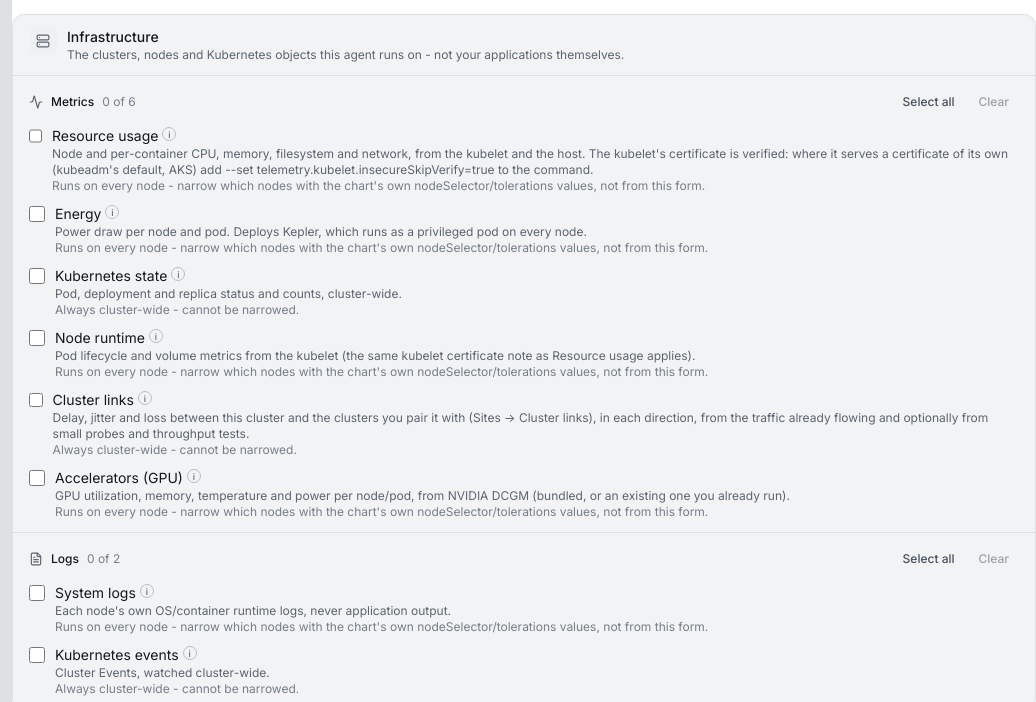
Test: CollectStep: Cluster links › offers probing and throughput only once the signal is on; the Secret is optional and tucked away
Click the checkbox with test id "t-clusterLinks": [36, 400] box [29, 392, 43, 408]
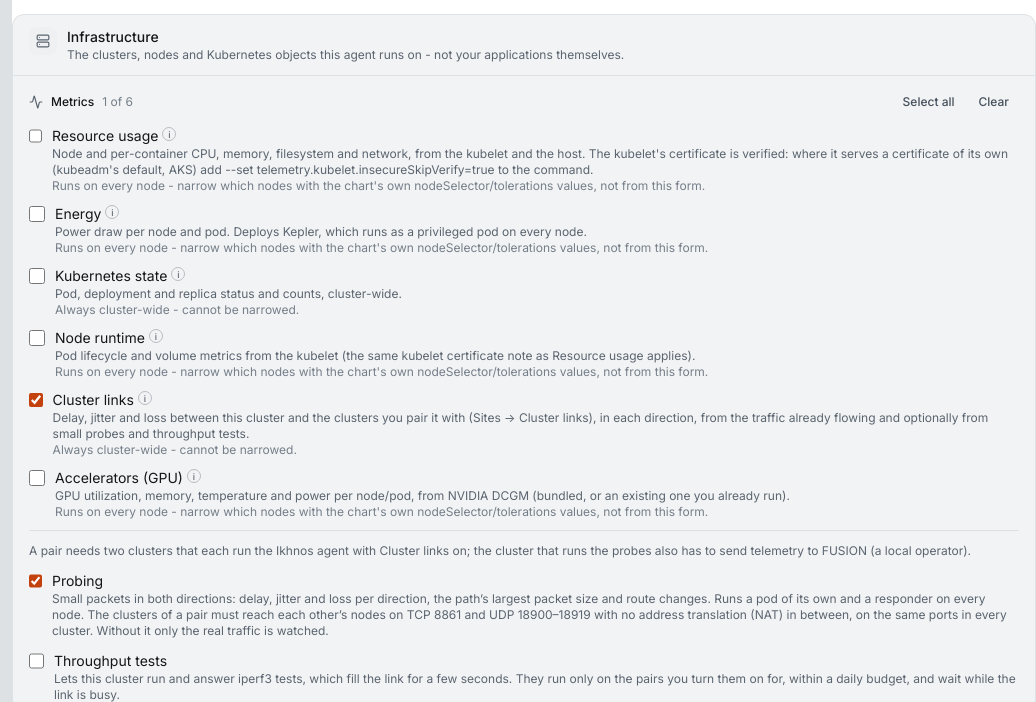
Expected: the checkbox with test id "t-links-probe" is checked, [29, 573, 42, 589]
Expected: the label with test id "t-links-probe" shows "TCP 8861 and UDP 18900–18919 with no address translation (NAT)", [52, 591, 1007, 638]
Click the checkbox with test id "t-links-throughput": [36, 661] box [29, 653, 44, 669]
(page scrolled)
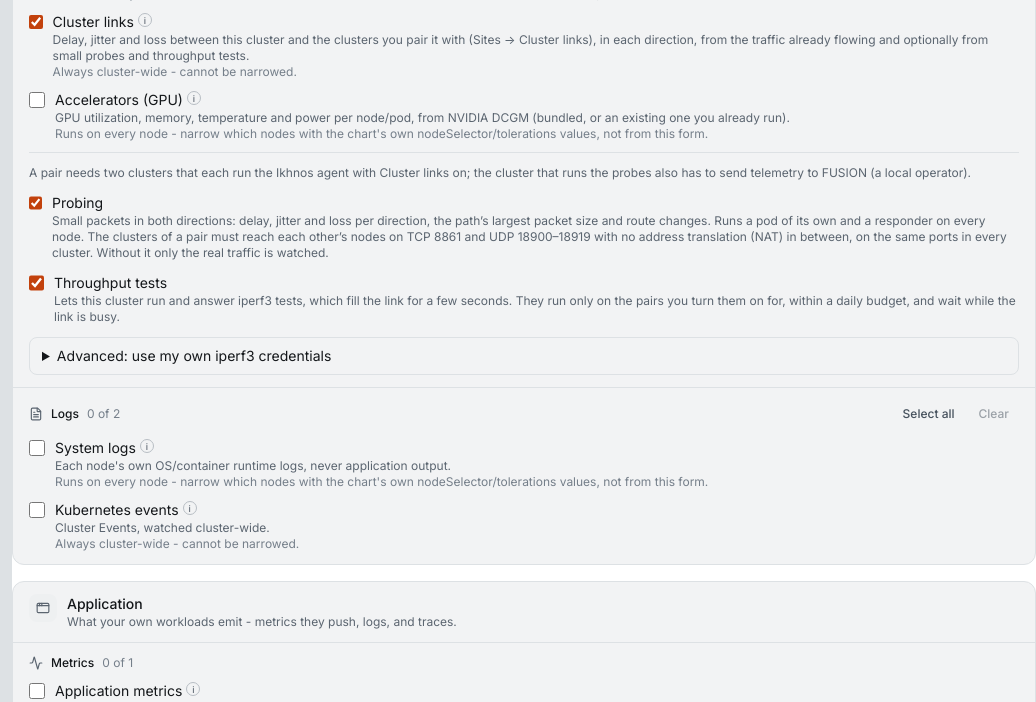
Expected: the element with test id "t-links-own-credentials" reads "Advanced: use my own iperf3 credentials", [57, 347, 331, 364]
Replace the text in the field with test id "t-links-secret" with "Bad_Name": [524, 356] box [29, 337, 1019, 375]
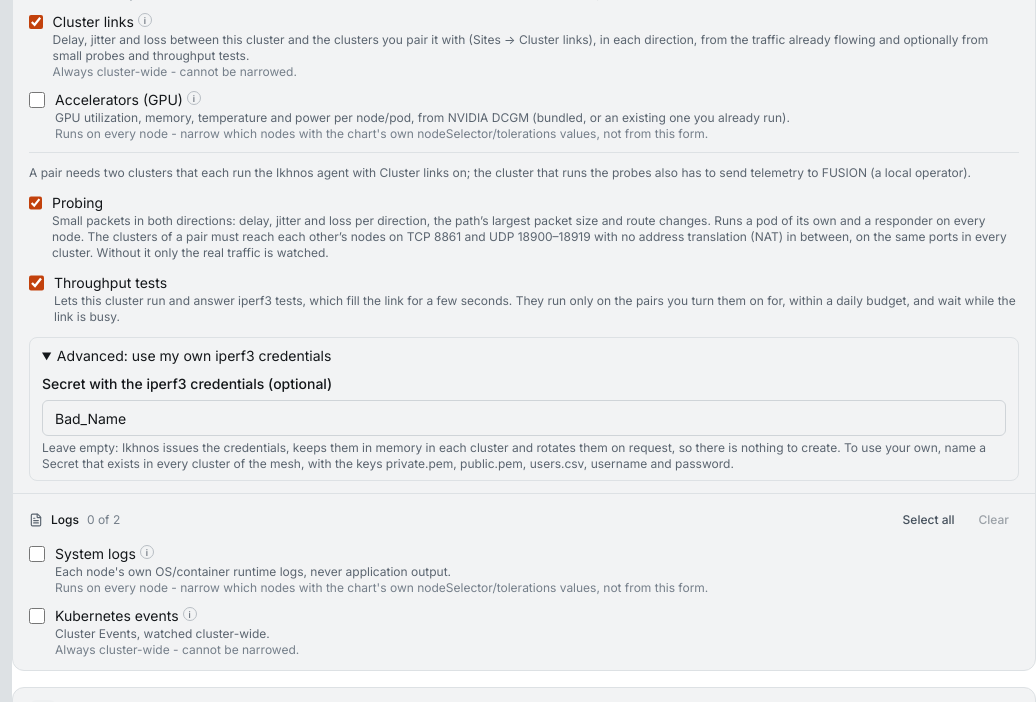
Replace the text in the field with test id "t-links-secret" with "ikhnos-link-iperf": [524, 418] box [42, 400, 1006, 436]
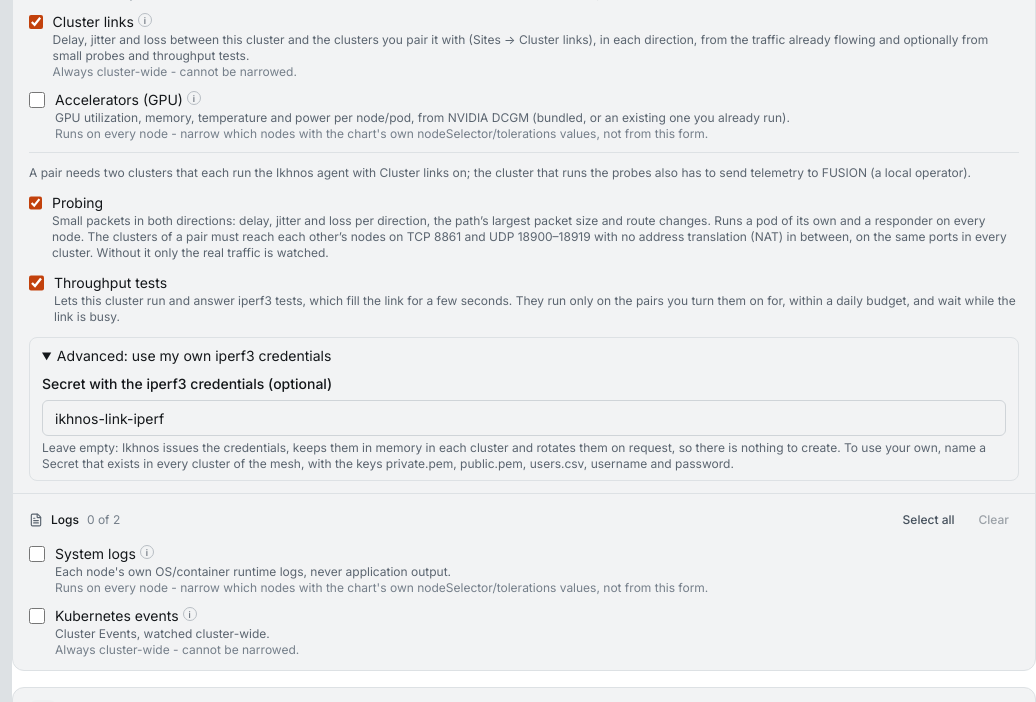
Click the checkbox with test id "t-links-probe": [36, 203] box [29, 195, 42, 211]
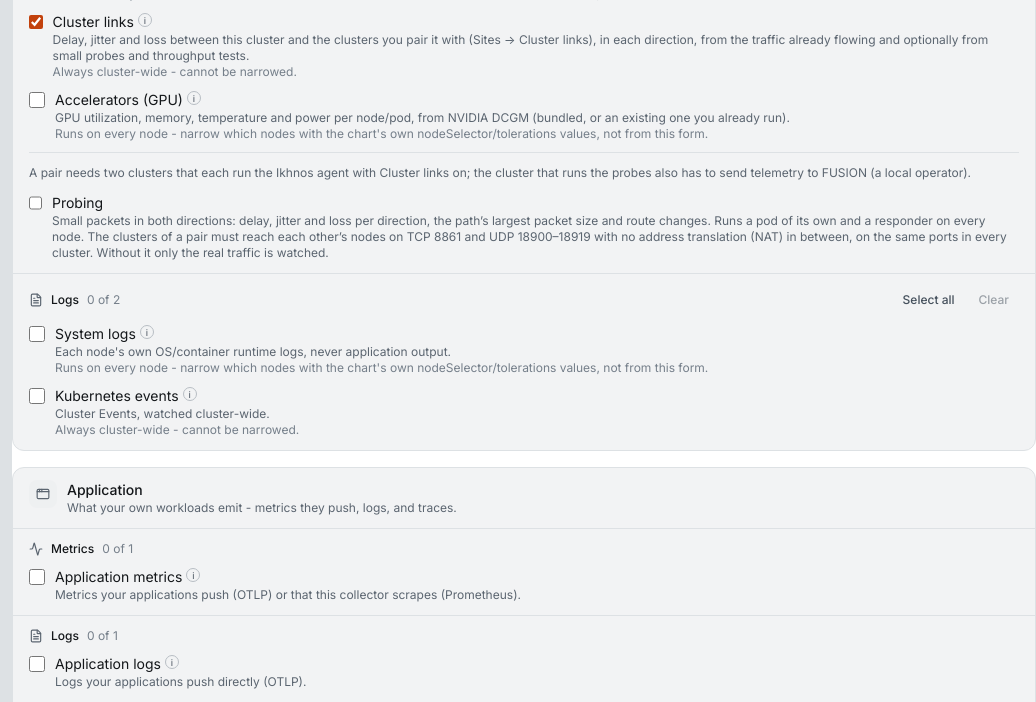
Expected: the checkbox with test id "t-links-throughput" is gone
